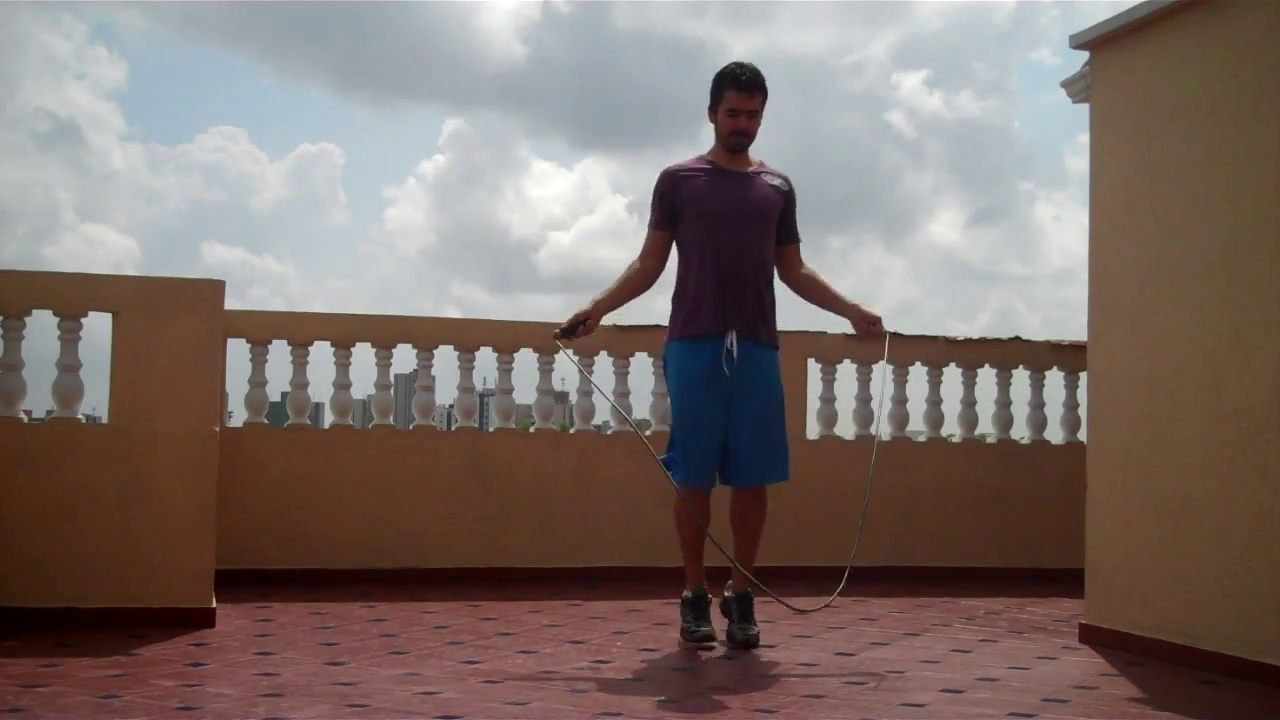left-lower-arm: (584, 264, 659, 314)
left-lower-leg: (626, 502, 768, 552)
left-upper-arm: (614, 195, 703, 245)
left-upper-leg: (635, 365, 767, 415)
right-lower-arm: (747, 202, 828, 252)
right-lower-leg: (687, 367, 818, 417)
right-upper-arm: (785, 266, 866, 316)
right-upper-leg: (677, 501, 813, 551)
